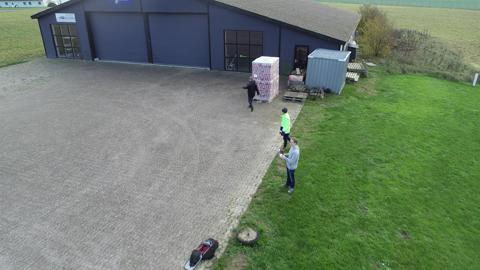RockwoolPallet: (252, 55, 280, 102)
